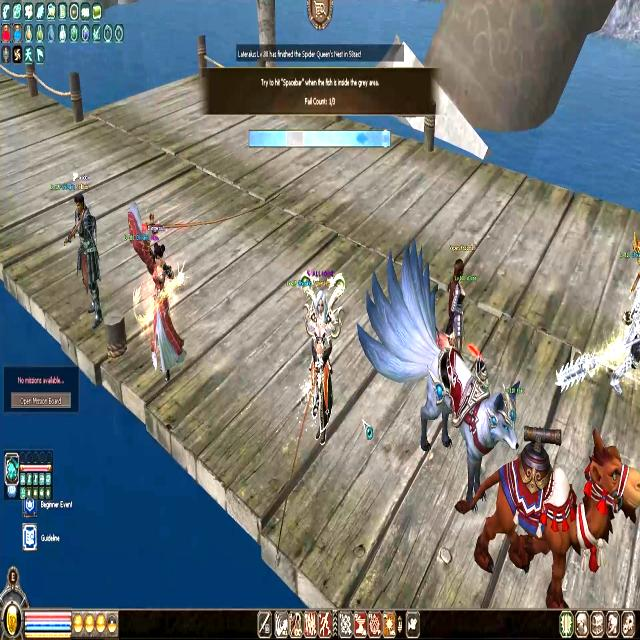fishes: (355, 131, 369, 146)
